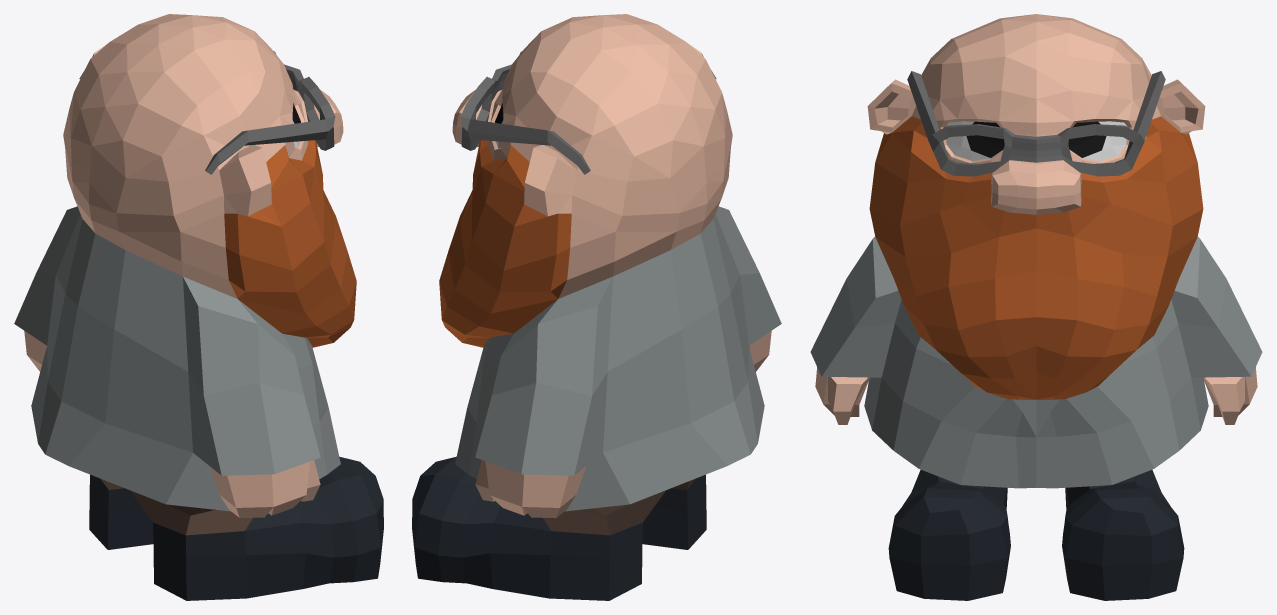
The model's file is Gnome_Garden_Markus.fbx.
The picture shows the model from 3 angles, left to right: view 1: azimuth 30°, elevation 25°; view 2: azimuth 150°, elevation 25°; view 3: azimuth 270°, elevation 25°; orthographic projection. The views are drawn at different scales.
Parts seen in each view (by area): view 1: Sphere.001; view 2: Sphere.001; view 3: Sphere.001.
Part boxes in pixels (x1,y1,x2,y2): Sphere.001: [14, 14, 383, 600]; Sphere.001: [412, 14, 781, 600]; Sphere.001: [810, 14, 1262, 600].
Bounding box in the file's own units: 67.78 × 119 × 94.73.
